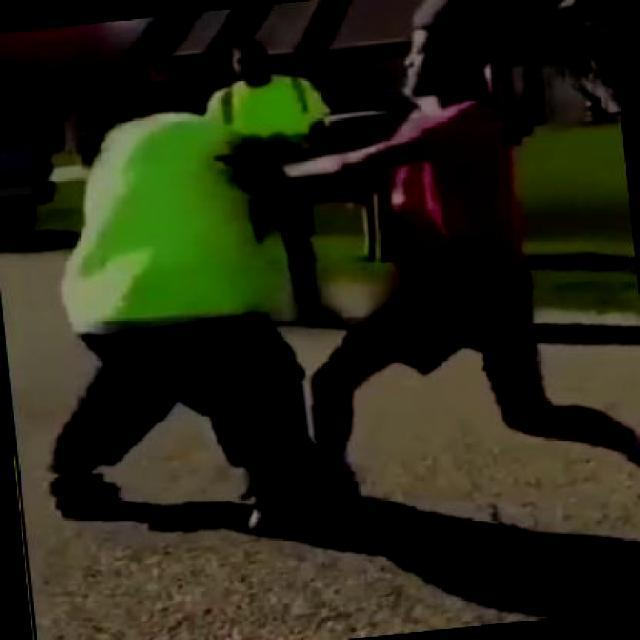fight: (37, 0, 556, 520)
